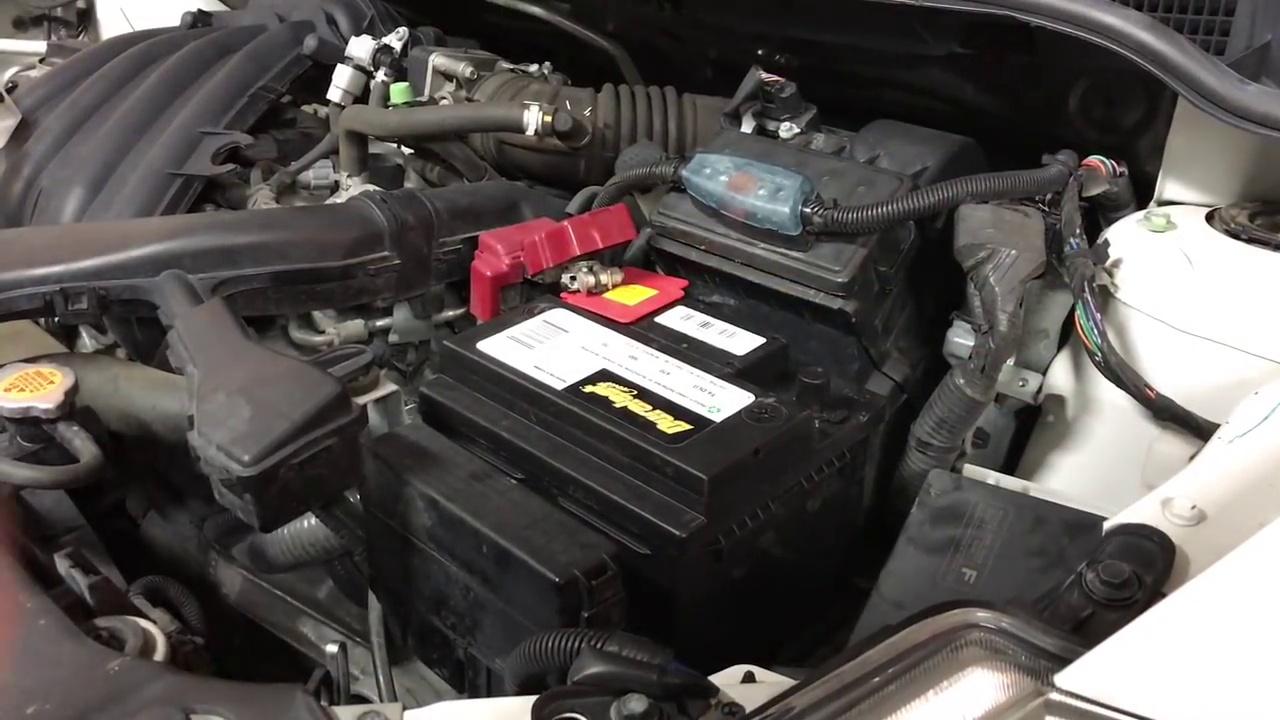battery: (429, 234, 853, 481)
pos_connected: (474, 201, 646, 334)
